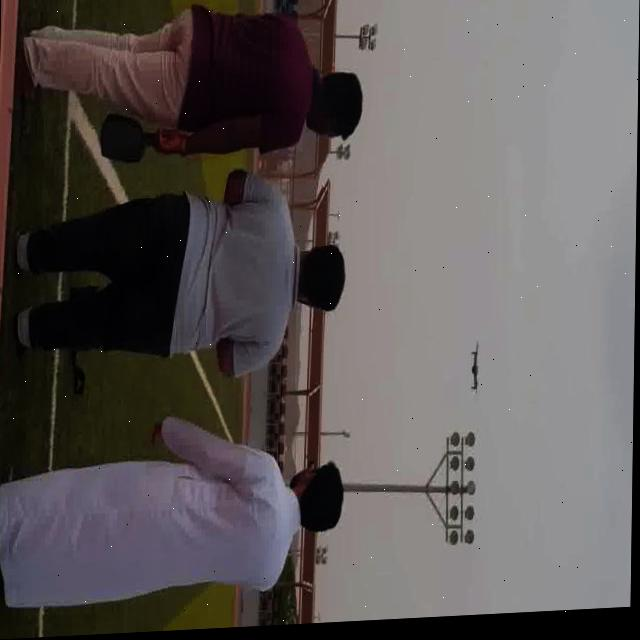drone: (467, 335, 484, 406)
